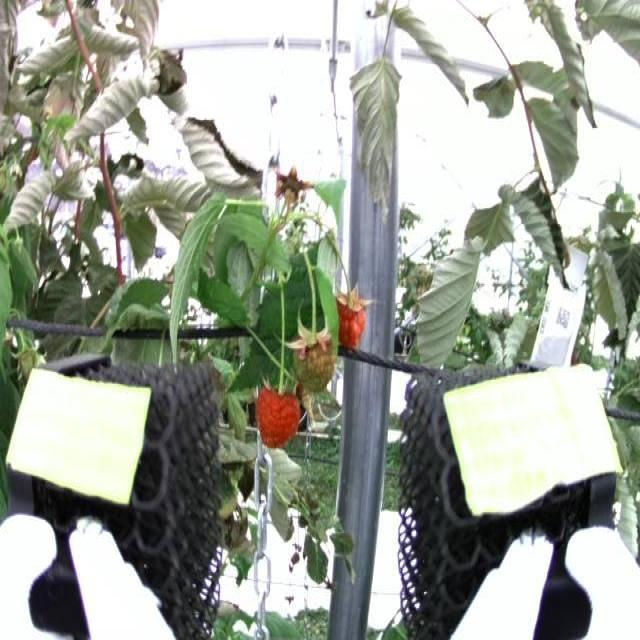Riped berries: (256, 381, 305, 449), (330, 284, 372, 349)
